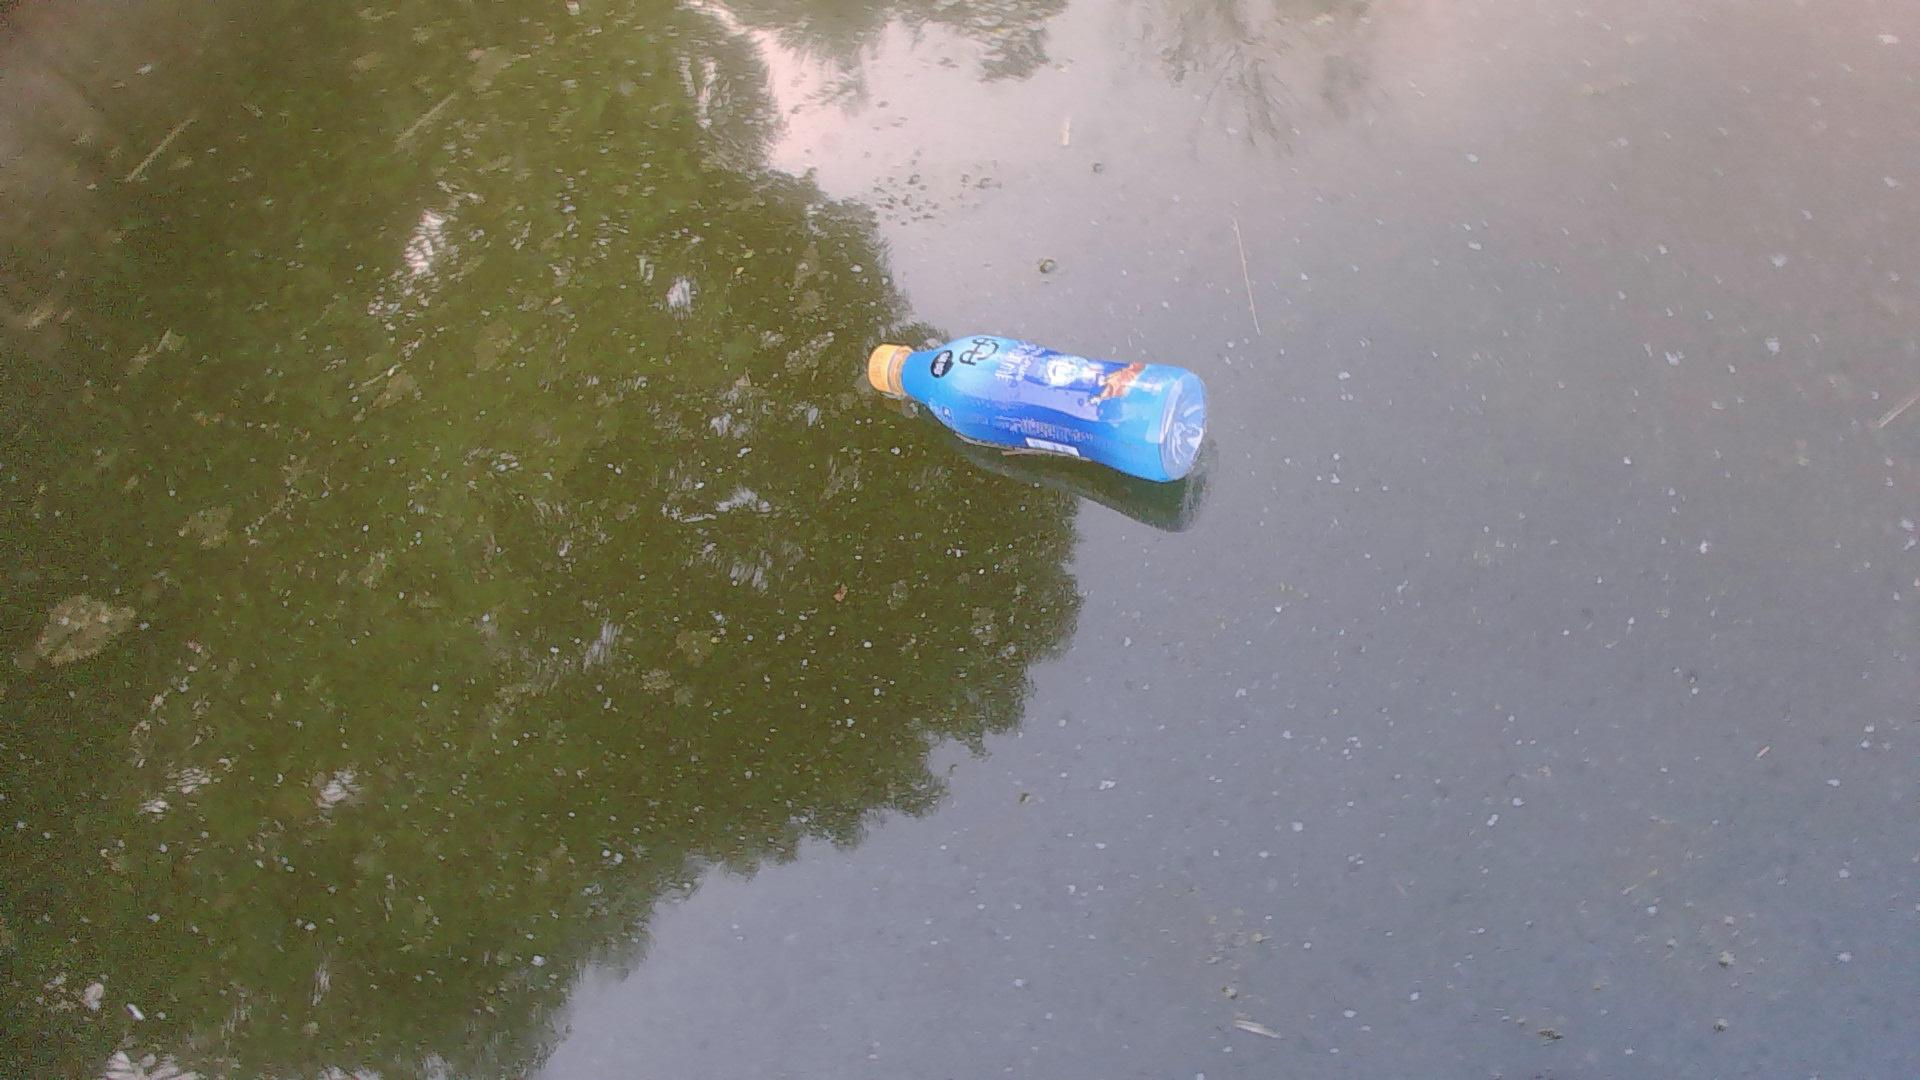Plastic: (861, 326, 1215, 487)
